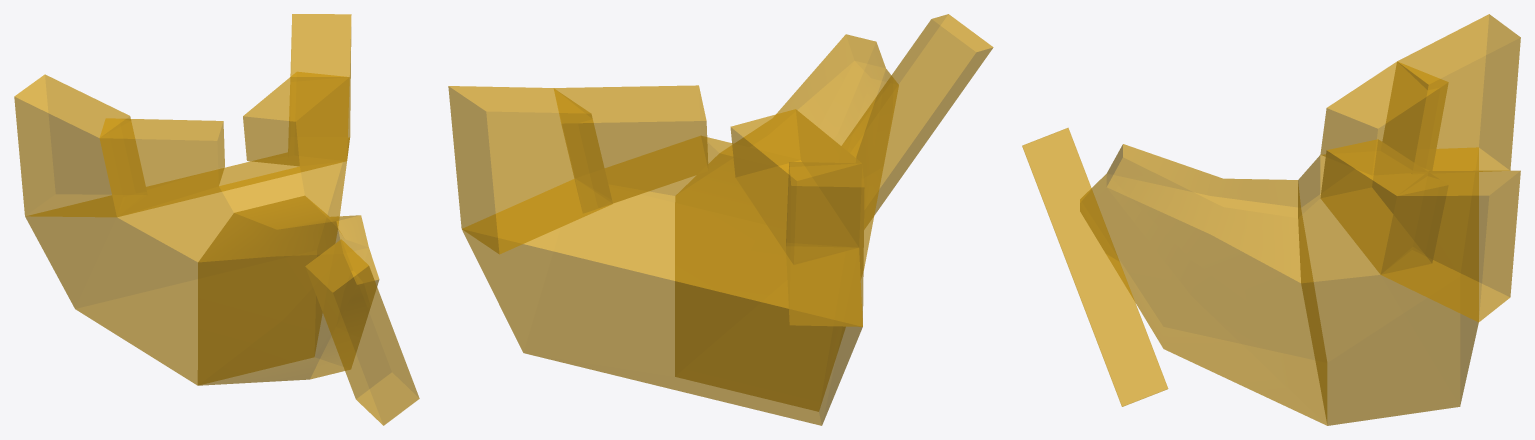
The model's file is SM_Veh_Ship_S_Figurehead_02_Collision.fbx.
The picture shows the model from 3 angles, left to right: view 1: azimuth 30°, elevation 25°; view 2: azimuth 150°, elevation 25°; view 3: azimuth 270°, elevation 25°; orthographic projection. The views are drawn at different scales.
Visible parts, largest first — view 1: SM_Veh_Ship_S_Figurehead_02_Collision; view 2: SM_Veh_Ship_S_Figurehead_02_Collision; view 3: SM_Veh_Ship_S_Figurehead_02_Collision.
Part boxes in pixels (<box>): SM_Veh_Ship_S_Figurehead_02_Collision: <box>14,14,419,425</box>; SM_Veh_Ship_S_Figurehead_02_Collision: <box>448,14,993,425</box>; SM_Veh_Ship_S_Figurehead_02_Collision: <box>1022,14,1520,425</box>.
Bounding box in the file's own units: 473 × 353 × 549.
